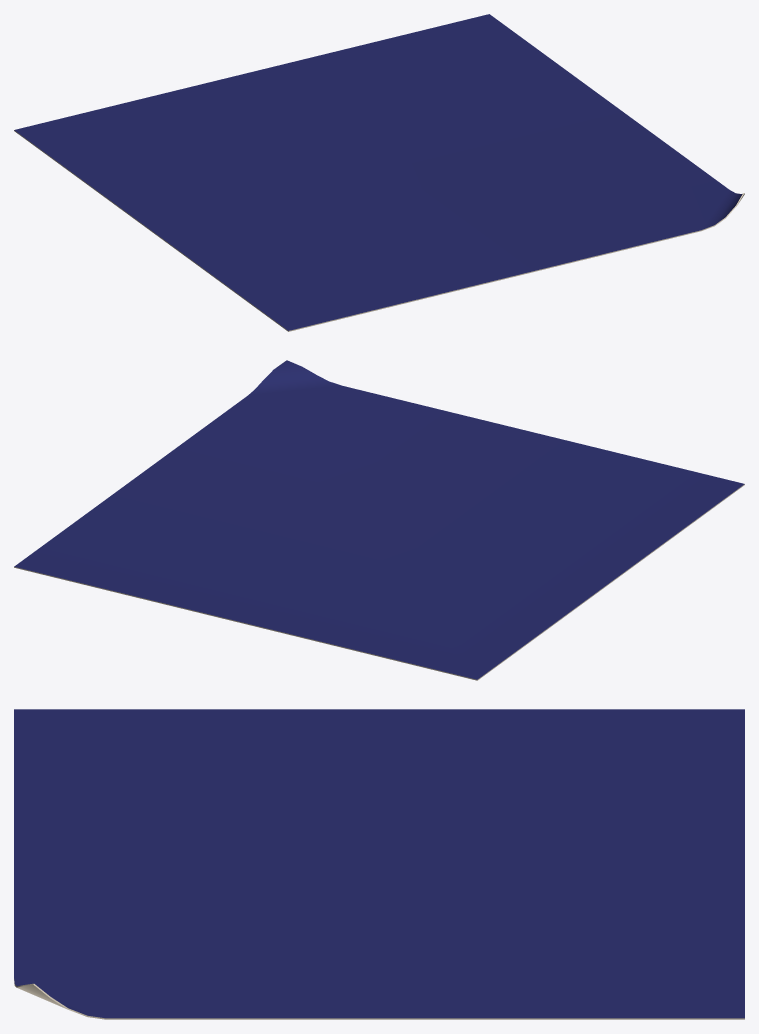
The model's file is blueprint_flat.fbx.
The picture shows the model from 3 angles, top to bottom: view 1: azimuth 30°, elevation 25°; view 2: azimuth 150°, elevation 25°; view 3: azimuth 270°, elevation 25°; orthographic projection. The views are drawn at different scales.
Visible parts, largest first — view 1: Blueprint_Flat; view 2: Blueprint_Flat; view 3: Blueprint_Flat.
Part boxes in pixels (box(x1,y1,x2,y2)): Blueprint_Flat: box(14, 14, 744, 331); Blueprint_Flat: box(14, 360, 744, 680); Blueprint_Flat: box(14, 709, 744, 1019).
Size of the model in its own units: 100 by 4.16 by 100.
